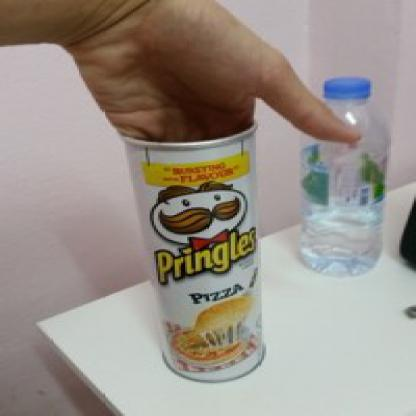potatochip: (118, 109, 269, 387)
